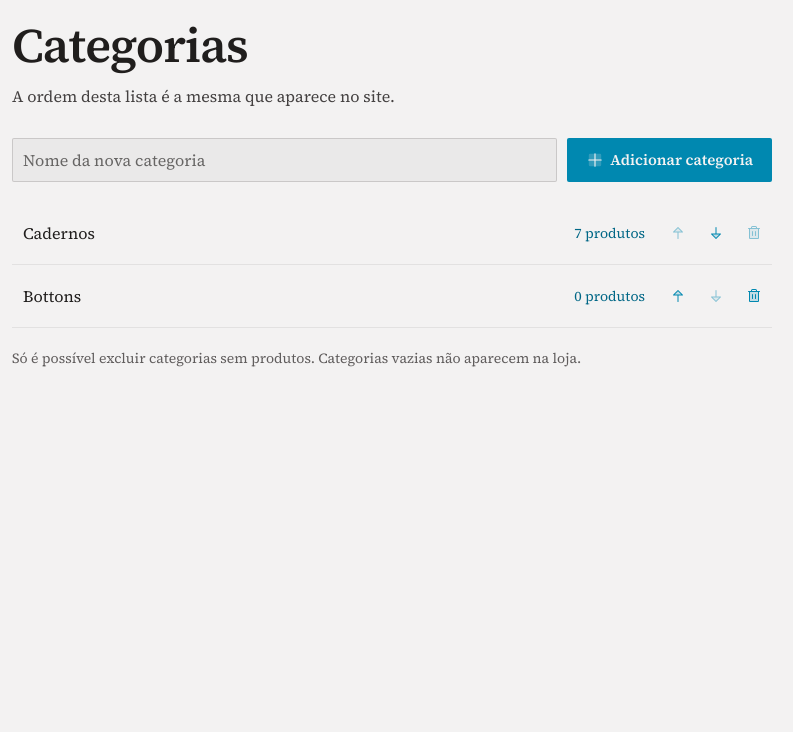
CategoriesPanel › adds a category
Type "Canecas" into the field with placeholder "Nome da nova categoria". click: (285, 160)
box: [12,138,557,182]
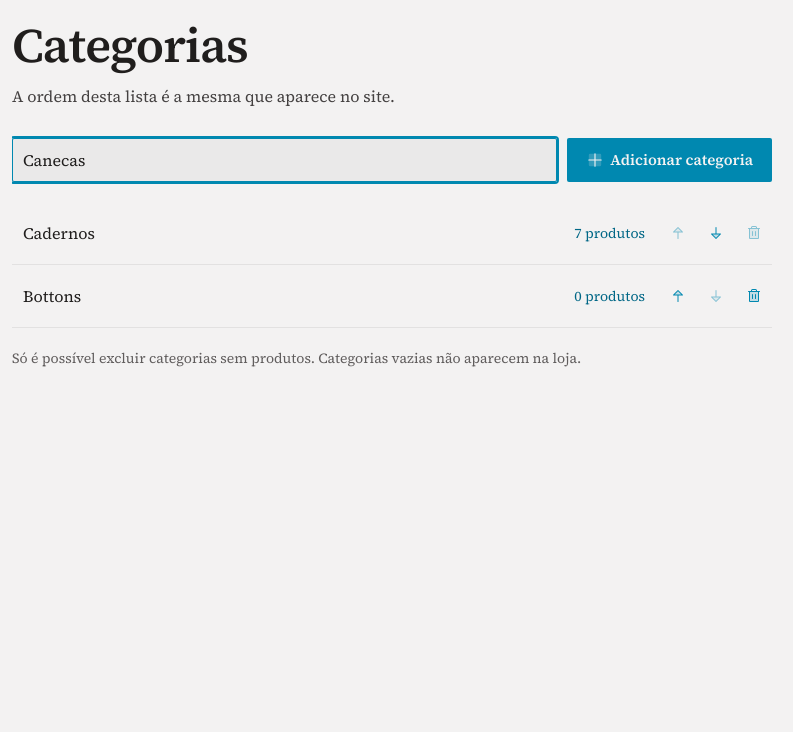
Click the button "Adicionar categoria". click: (670, 160)
box: [567,138,772,182]
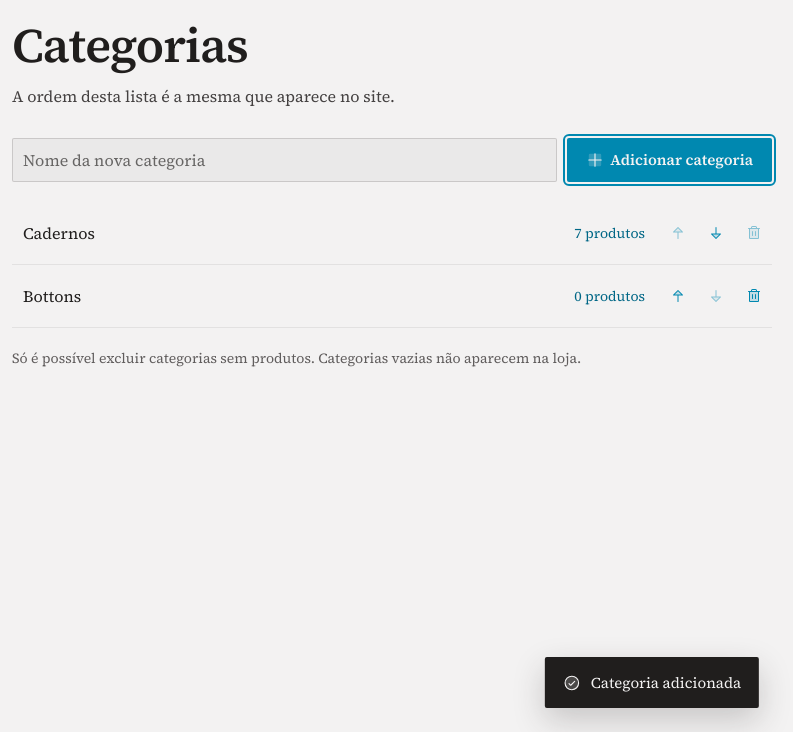
Expected: the message reads "Categoria adicionada", [591,672,741,693]
